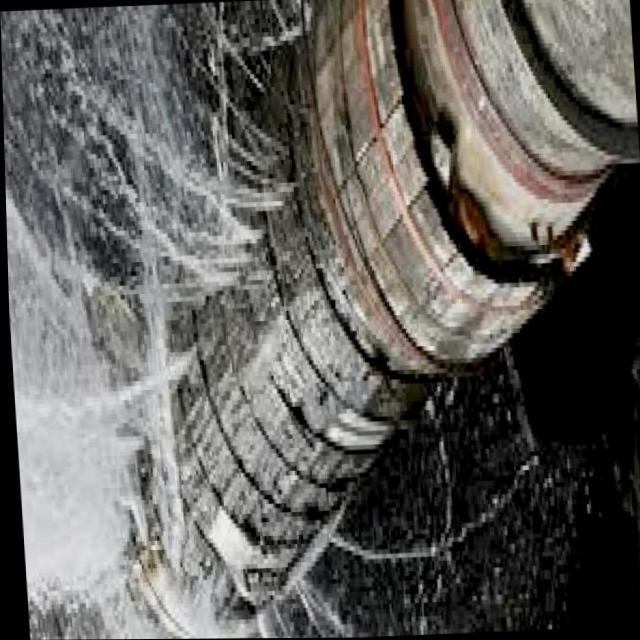leak: (0, 1, 355, 639)
